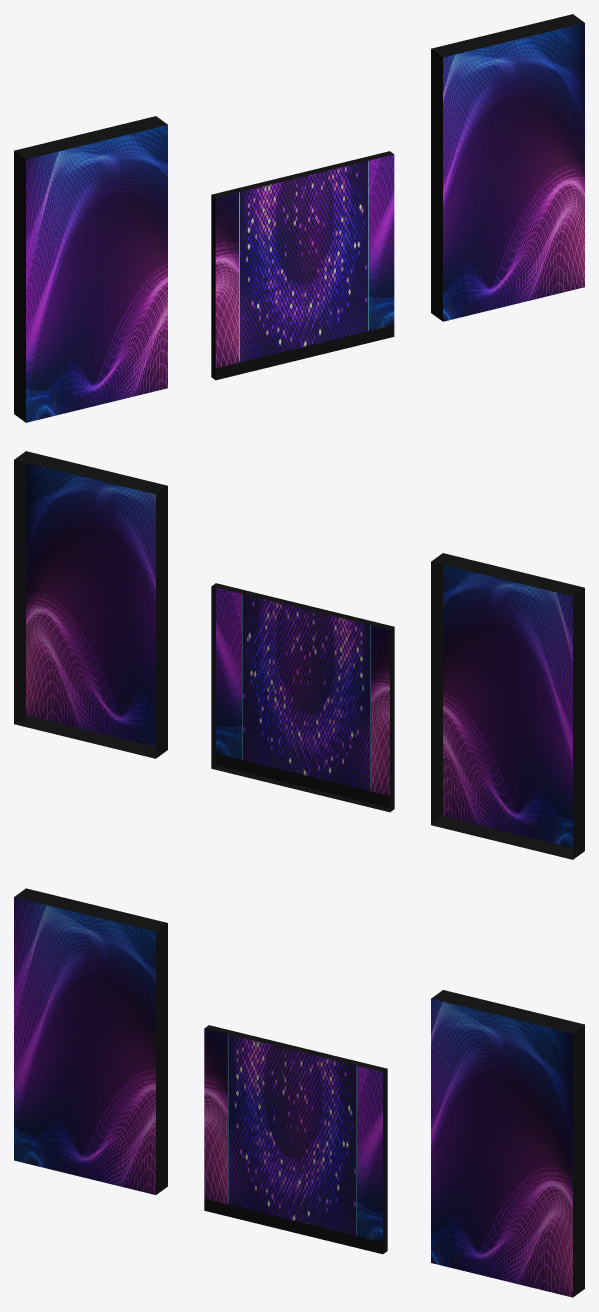
The model's file is stagevrs2_0.fbx.
3 views of the same model, one above another, from view 1: azimuth 30°, elevation 25°; view 2: azimuth 150°, elevation 25°; view 3: azimuth 330°, elevation 25° (orthographic).
Visible parts, largest first — view 1: screens1, polySurface4; view 2: screens1, polySurface4; view 3: screens1, polySurface4.
Boxes of the visible parts, <box> form: screens1: <box>26,23,584,422</box>; polySurface4: <box>14,14,584,422</box>; screens1: <box>26,463,572,847</box>; polySurface4: <box>14,451,584,859</box>; screens1: <box>14,897,572,1297</box>; polySurface4: <box>14,888,584,1297</box>.
Size of the model in its own units: 66.15 by 30.27 by 2.47.
2 materials, 1 textured.
